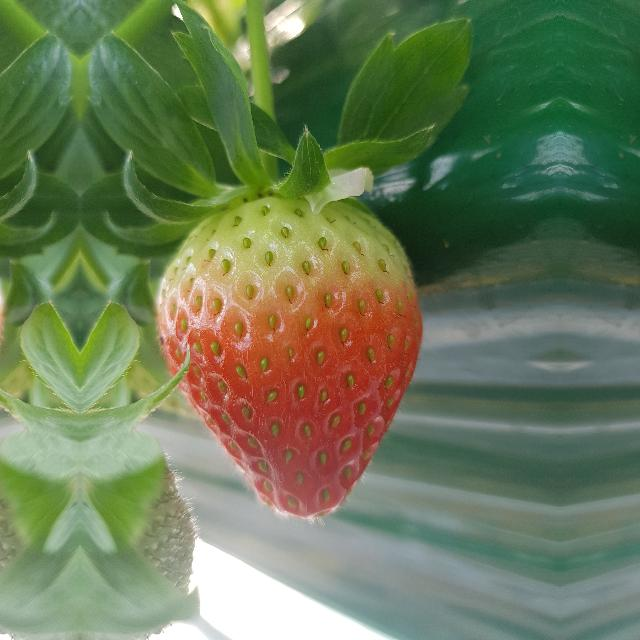Health_75: (152, 195, 424, 519)
